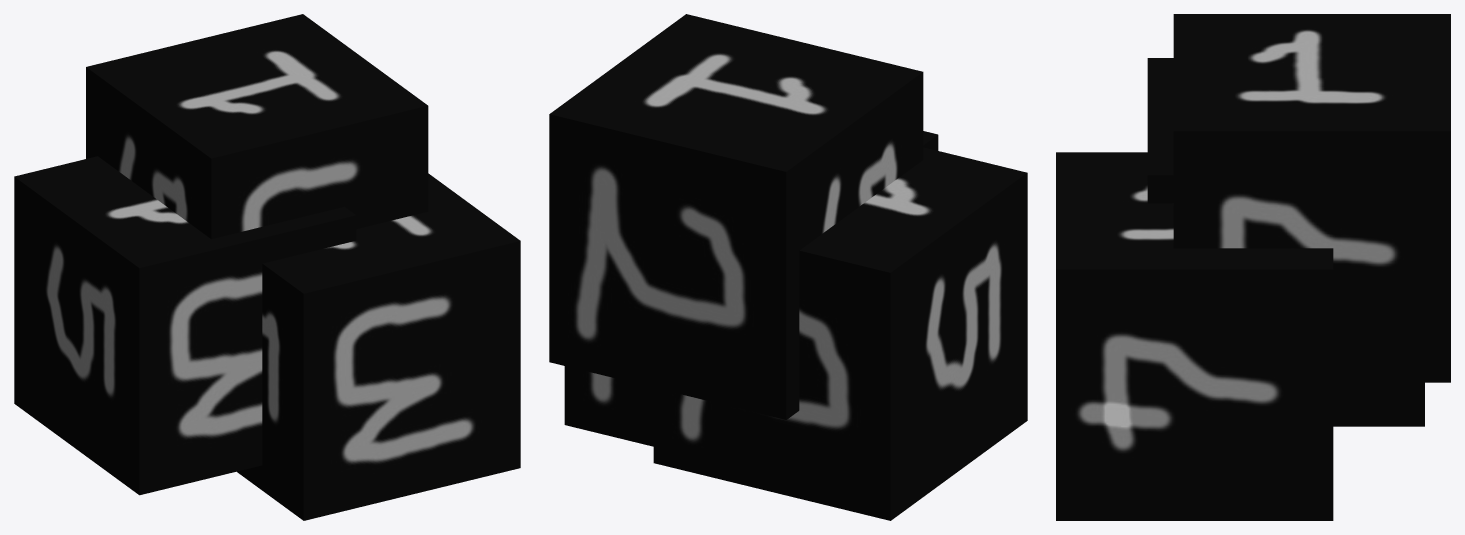
File: multimaterial.dae
3 renders of one model, left to right at view 1: azimuth 30°, elevation 25°; view 2: azimuth 150°, elevation 25°; view 3: azimuth 270°, elevation 25°, orthographic. The views are drawn at different scales.
Visible parts, largest first — view 1: Cube_002; view 2: Cube_002; view 3: Cube_002.
Boxes of the visible parts, x1,y1,x2,y2 form: Cube_002: (14, 14, 520, 520); Cube_002: (549, 14, 1027, 520); Cube_002: (1056, 14, 1450, 520).
Size of the model in its own units: 3.13 by 2.85 by 2.93.
3 materials, 3 textured.
